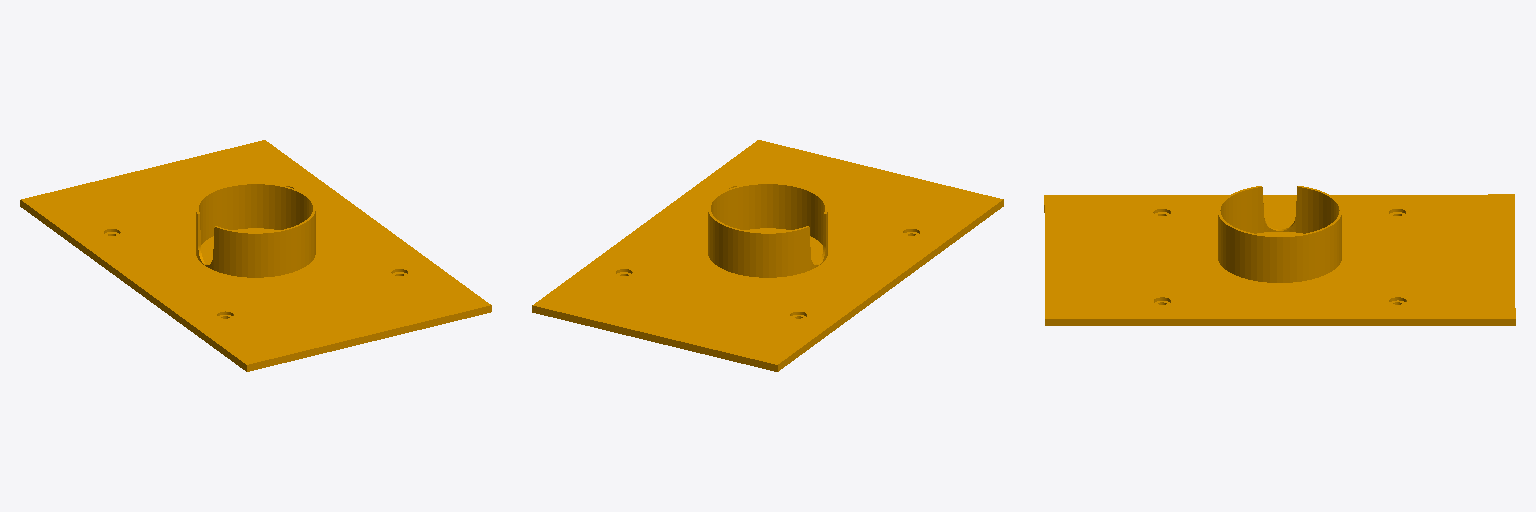
URDF robot description (ncf_cupholder):
<?xml version="1.0"?>
<robot name="ncf_cupholder">
  <link name="ncf_cupholder">
    <visual>
      <origin xyz="0.0 0.0 0.0" rpy="0 0 -1.57"/>
      <geometry>
        <!-- <mesh filename="../mesh/ncf_mug_cupholder/cupholder/cupholder_v2.obj" scale="0.75 0.75 0.75"/> -->
        <mesh filename="../mesh/ncf_mug_cupholder/cupholder/cupholder_table.obj" scale="0.9 0.9 0.9"/>
      </geometry>
    </visual>
    <collision>
      <origin xyz="0.0 0.0 0.0" rpy="0 0 -1.57"/>
      <geometry>
        <!-- <mesh filename="../mesh/ncf_mug_cupholder/cupholder/cupholder_v2.obj" scale="0.75 0.75 0.75"/> -->
        <mesh filename="../mesh/ncf_mug_cupholder/cupholder/cupholder_table.obj" scale="0.9 0.9 0.9"/>
      </geometry>
      <sdf resolution="256"/>
    </collision>
    <!-- <inertial>
      <mass value="0.102"/>
      <inertia ixx="0.0001" ixy="0.0" ixz="0.0" iyy="0.0001" iyz="0.0" izz="0.0001"/>
    </inertial> -->
  </link>
</robot>

--- Render facts (derived) ---
The picture shows the robot from 3 angles, left to right: view 1: azimuth 30°, elevation 25°; view 2: azimuth 150°, elevation 25°; view 3: azimuth 270°, elevation 25°; orthographic projection.
Robot: ncf_cupholder — 1 links, 0 joints (none); root link ncf_cupholder; default pose: every joint at zero.
Links seen in each view (by area): view 1: ncf_cupholder; view 2: ncf_cupholder; view 3: ncf_cupholder.
Link boxes in pixels (box(x1,y1,x2,y2)): ncf_cupholder: box(20, 140, 491, 371); ncf_cupholder: box(532, 140, 1003, 371); ncf_cupholder: box(1044, 186, 1515, 325).
Bounding box of the posed robot: 0.1915 × 0.3062 × 0.0382 m (x, y, z).
1 mesh visuals loaded from 1 distinct referenced files (1 OBJ).